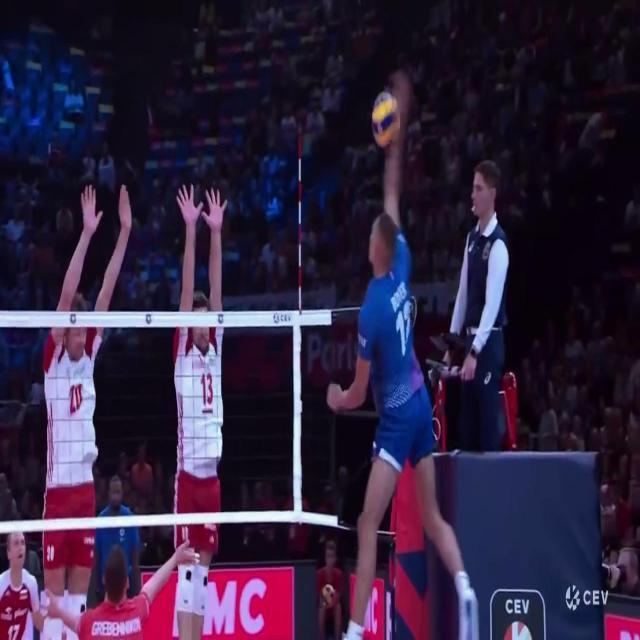volleyball: (371, 94, 398, 148)
